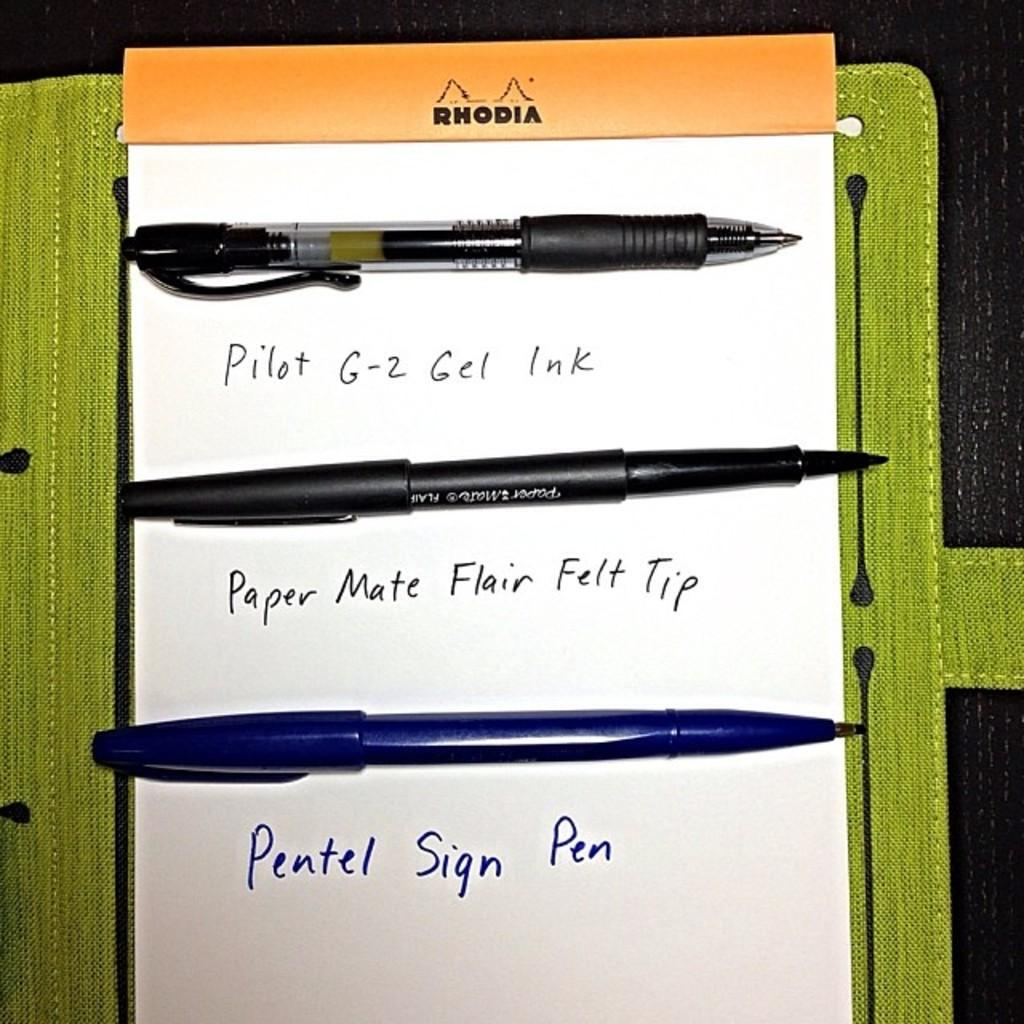pen: (117, 208, 811, 306), (114, 446, 896, 528), (88, 706, 875, 781)
